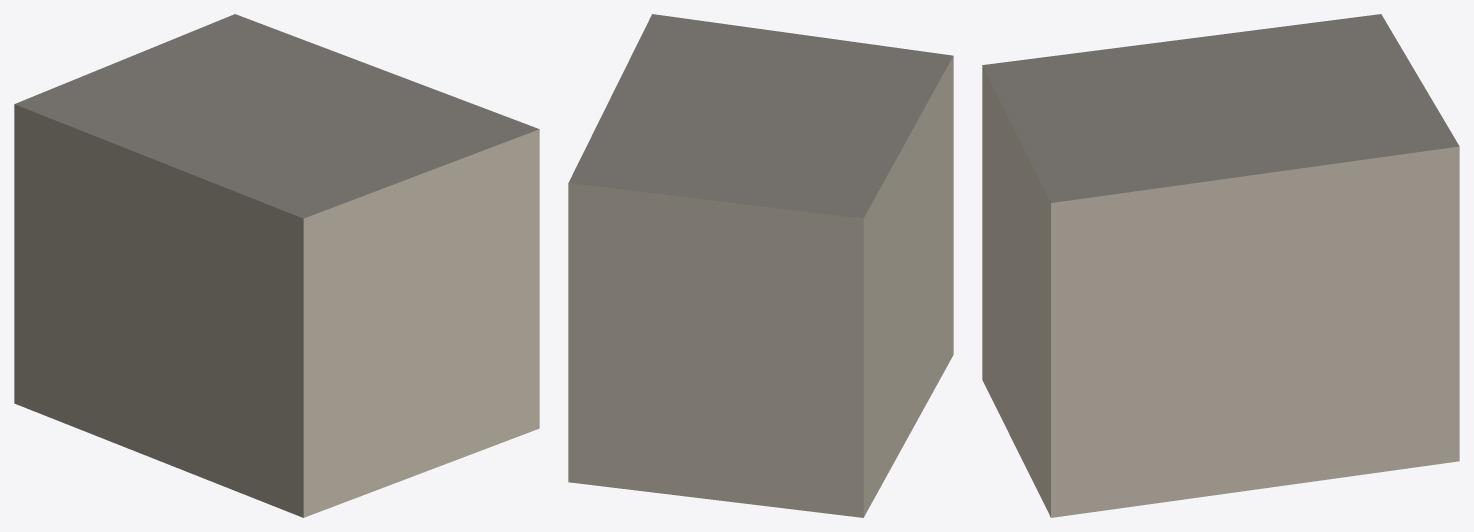
3 views of the same model, side by side, from view 1: azimuth 30°, elevation 25°; view 2: azimuth 150°, elevation 25°; view 3: azimuth 270°, elevation 25° (orthographic). The views are drawn at different scales.
Parts seen in each view (by area): view 1: HP-w380339987; view 2: HP-w380339987; view 3: HP-w380339987.
Boxes of the visible parts, bbox=[...] form: HP-w380339987: bbox=[14, 14, 539, 517]; HP-w380339987: bbox=[568, 14, 953, 517]; HP-w380339987: bbox=[982, 14, 1459, 517].
Bounding box in the file's own units: 23.18 × 18 × 24.72.
